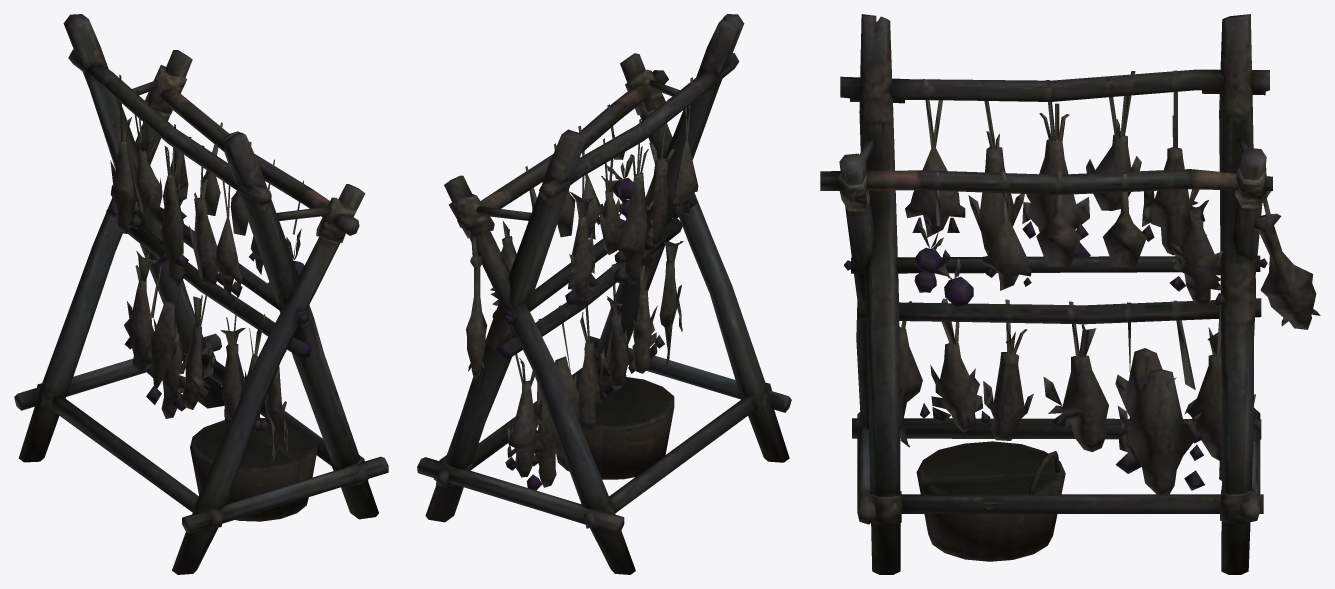
The model's file is alch_drying_rack.glb.
3 views of the same model, side by side, from view 1: azimuth 30°, elevation 25°; view 2: azimuth 150°, elevation 25°; view 3: azimuth 270°, elevation 25° (orthographic). The views are drawn at different scales.
Parts seen in each view (by area): view 1: tripo_node_5d722c8b-a171-4b64-88c5-09cb58ecce8c; view 2: tripo_node_5d722c8b-a171-4b64-88c5-09cb58ecce8c; view 3: tripo_node_5d722c8b-a171-4b64-88c5-09cb58ecce8c.
Boxes of the visible parts, left/top/right/bottom form: tripo_node_5d722c8b-a171-4b64-88c5-09cb58ecce8c: left=14, top=14, right=388, bottom=574; tripo_node_5d722c8b-a171-4b64-88c5-09cb58ecce8c: left=417, top=14, right=791, bottom=574; tripo_node_5d722c8b-a171-4b64-88c5-09cb58ecce8c: left=820, top=14, right=1320, bottom=574.
Size of the model in its own units: 0.502 by 0.998 by 0.9238.
Materials: 1 (1 with a texture image).
